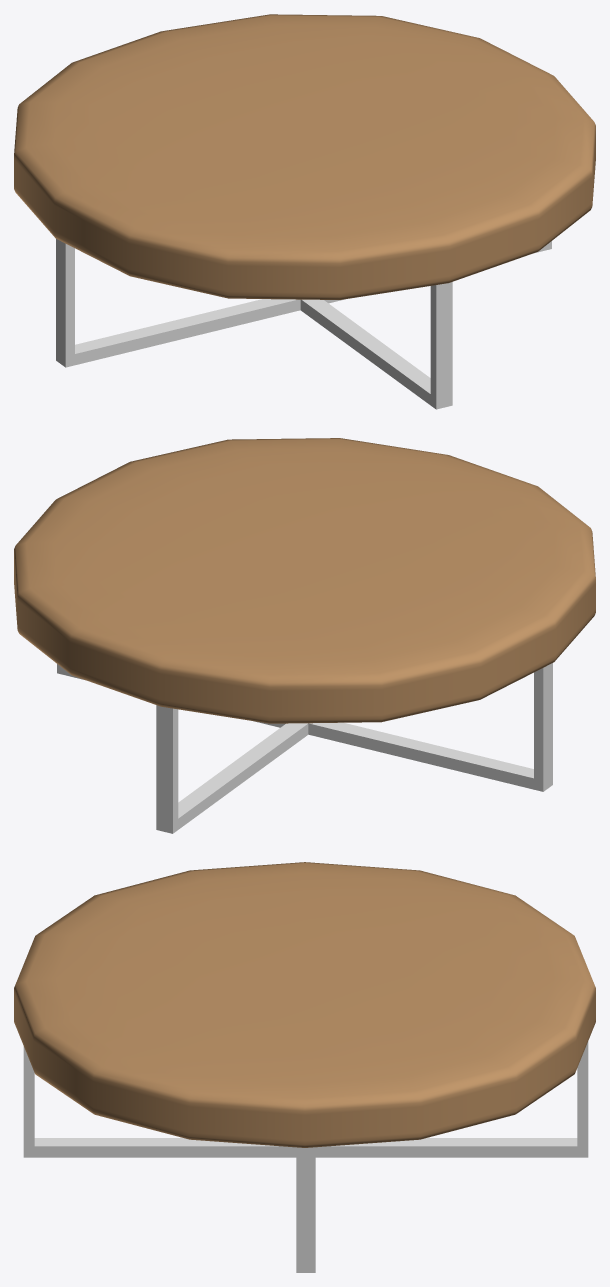
Rendered from table.fbx.
The picture shows the model from 3 angles, top to bottom: view 1: azimuth 30°, elevation 25°; view 2: azimuth 150°, elevation 25°; view 3: azimuth 270°, elevation 25°; orthographic projection.
Visible parts, largest first — view 1: Cube.020; view 2: Cube.020; view 3: Cube.020.
Boxes of the visible parts, x1,y1,x2,y2 form: Cube.020: [14, 14, 595, 409]; Cube.020: [14, 438, 595, 833]; Cube.020: [14, 862, 595, 1272].
Bounding box in the file's own units: 567 × 192 × 567.
